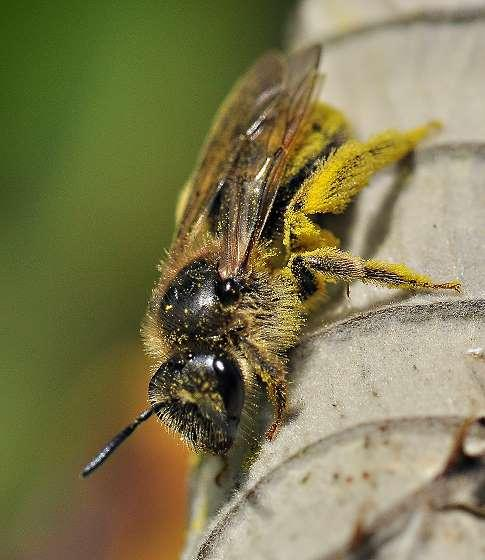Lasioglossum: (92, 34, 432, 488)
